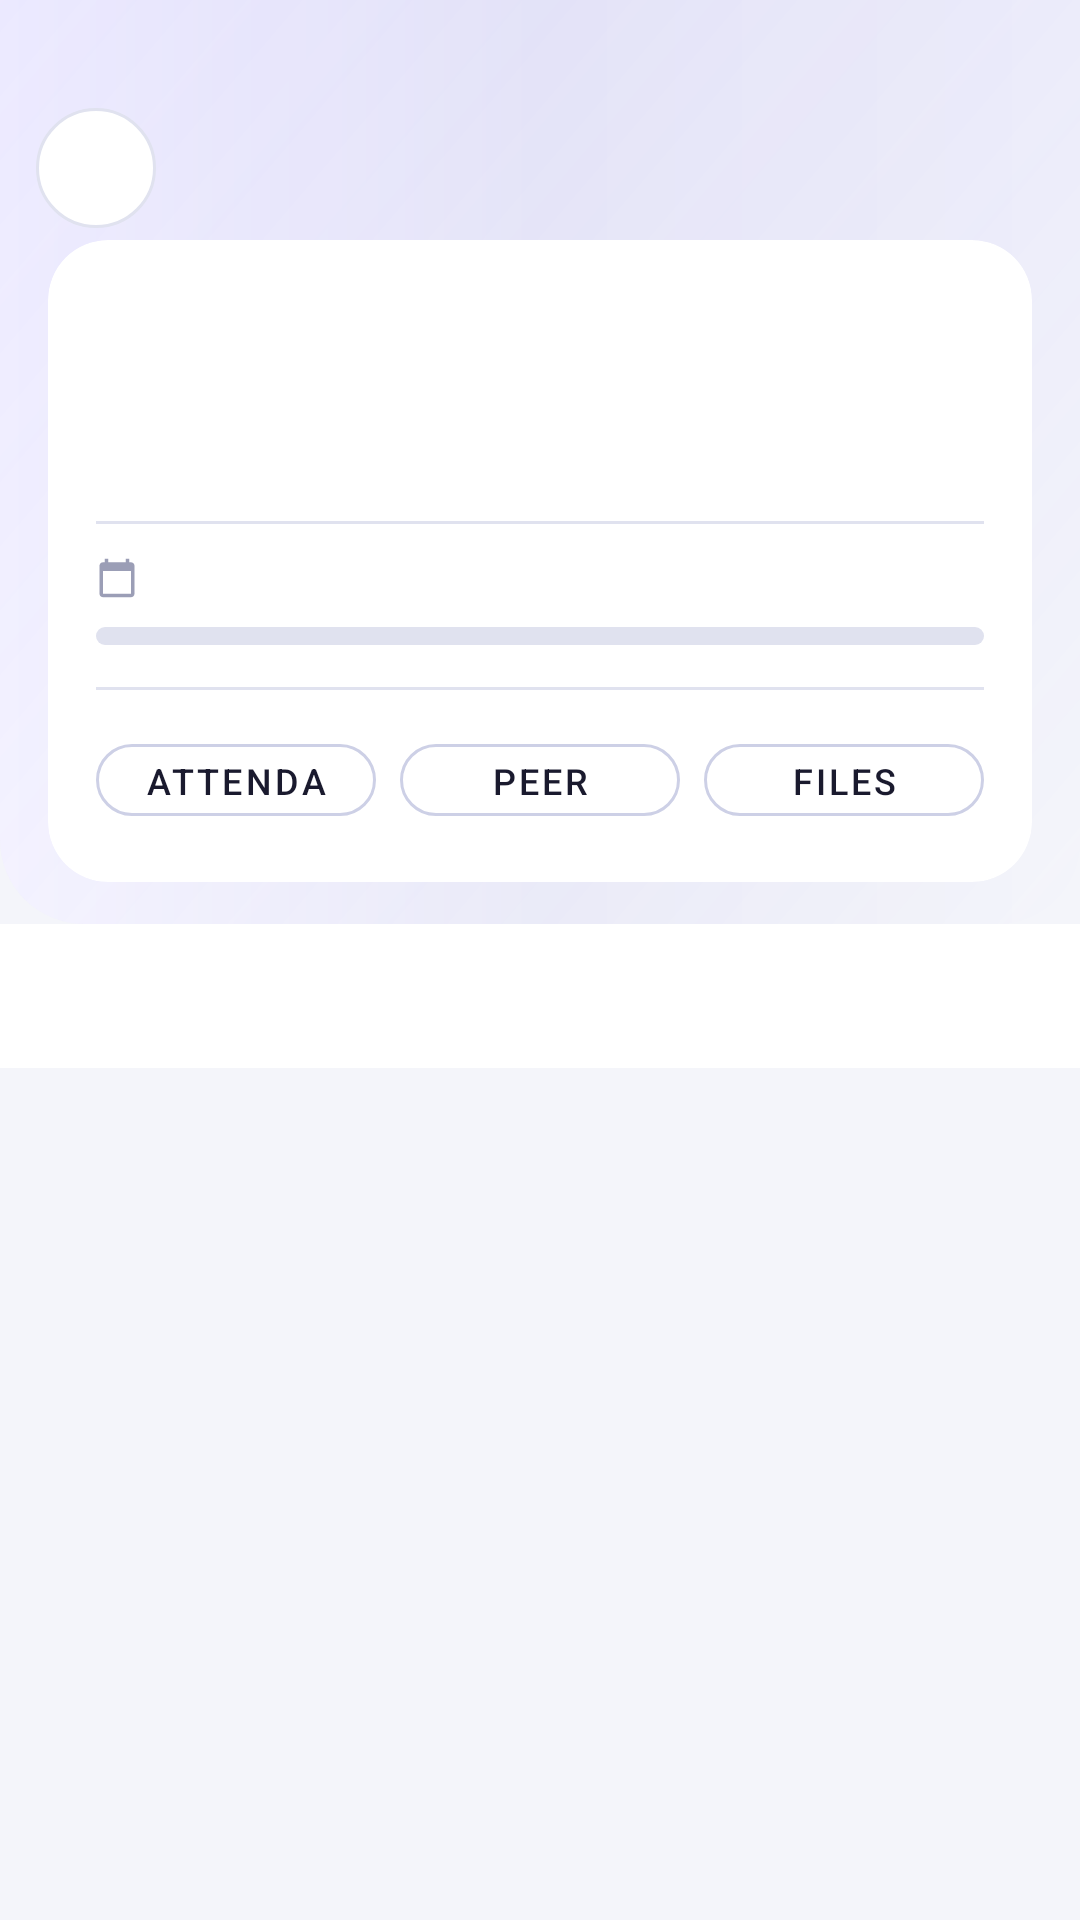

Point at icon controls on the screen. Image size 1080w x 1920h, points as point (x, y).
calendar: point (117, 578)
